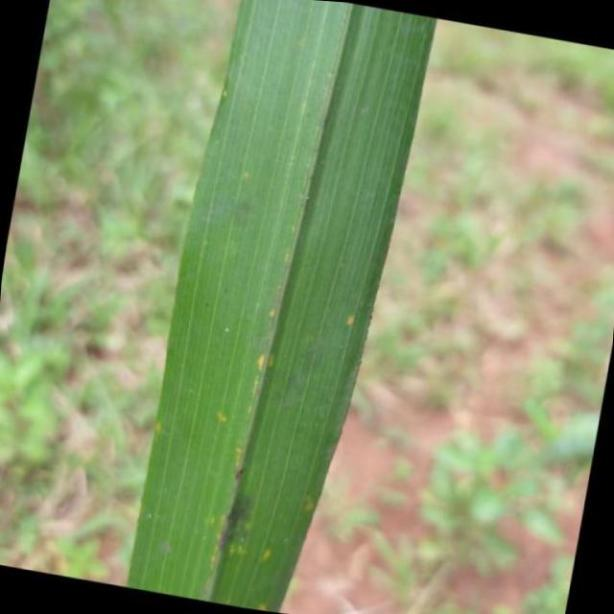Kalium: (128, 0, 436, 614)
